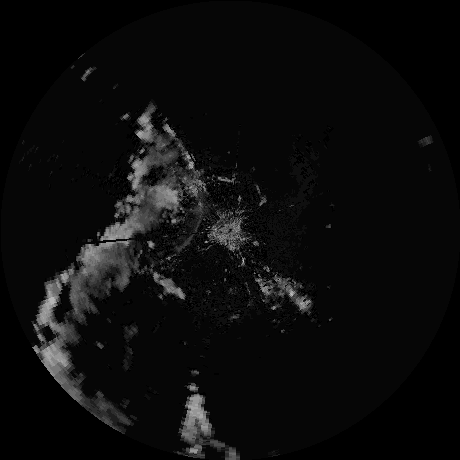frontgust: (164, 202, 203, 264)
